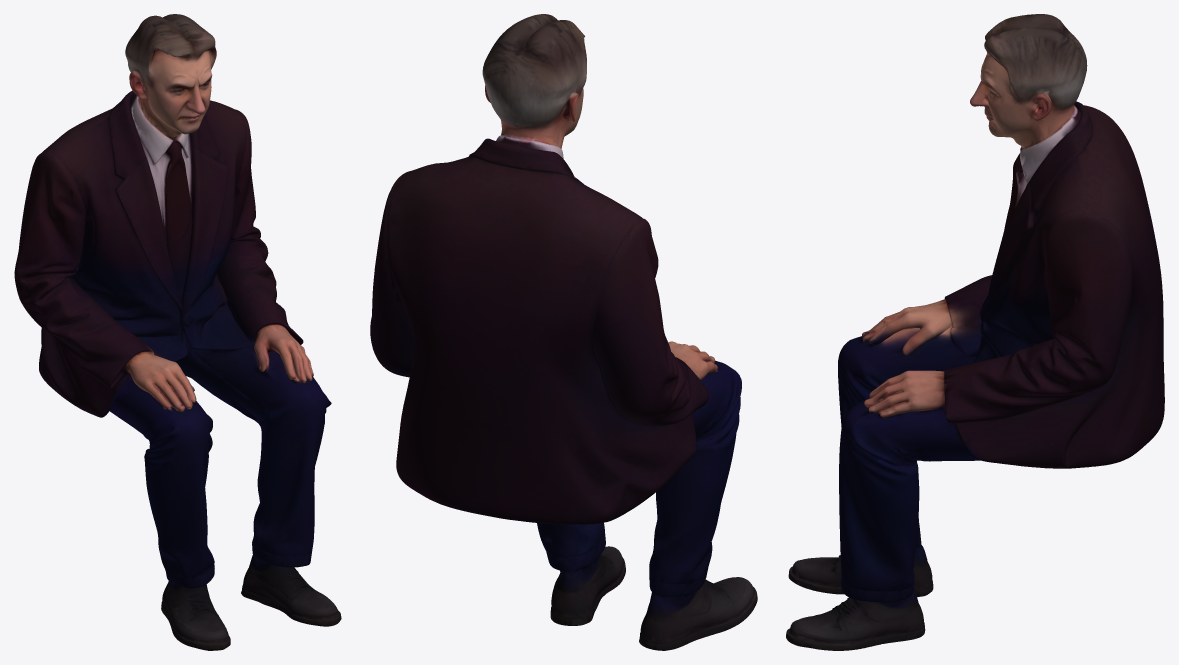
The model's file is interviewer-mobile.glb.
The picture shows the model from 3 angles, left to right: view 1: azimuth 30°, elevation 25°; view 2: azimuth 150°, elevation 25°; view 3: azimuth 270°, elevation 25°; orthographic projection. The views are drawn at different scales.
Parts seen in each view (by area): view 1: node_0; view 2: node_0; view 3: node_0.
Part boxes in pixels (x1,y1,x2,y2): node_0: (14,14,341,650); node_0: (370,14,757,650); node_0: (786,14,1164,650).
Size of the model in its own units: 0.482 by 1.03 by 0.5935.
1 material, 1 textured.
